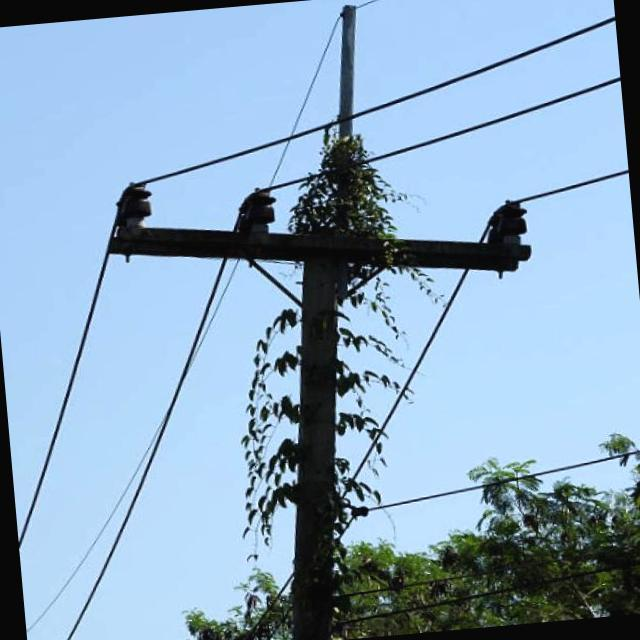critical vegetation: (173, 77, 482, 554)
